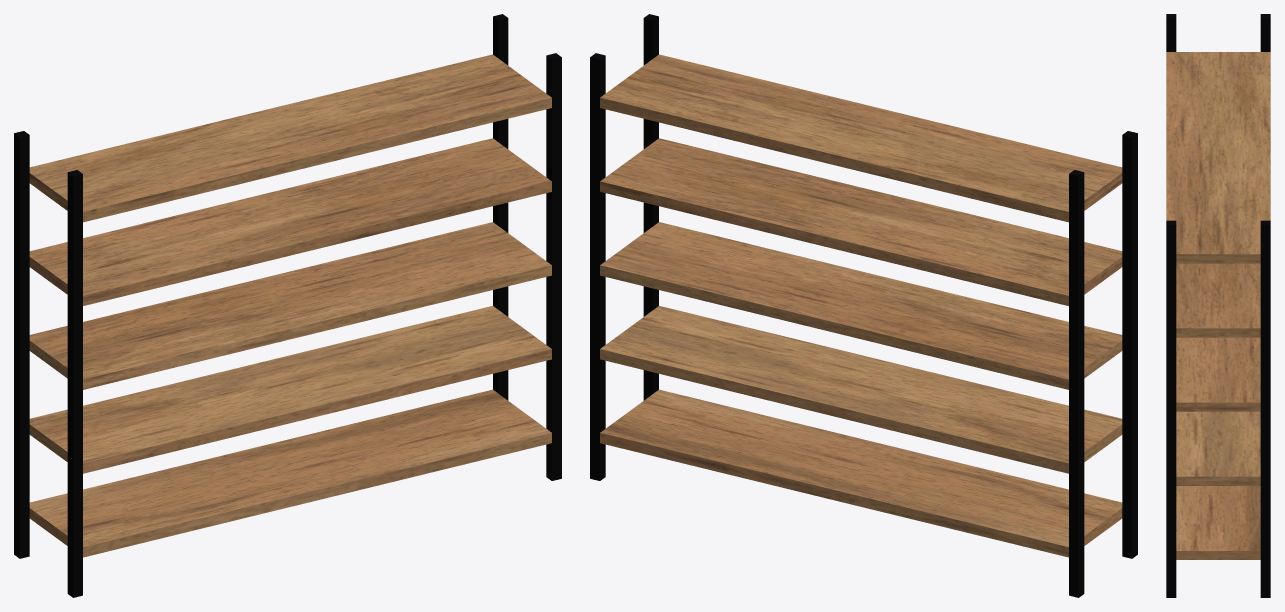
File: szafka.obj
3 renders of one model, left to right at view 1: azimuth 30°, elevation 25°; view 2: azimuth 150°, elevation 25°; view 3: azimuth 270°, elevation 25°, orthographic. The views are drawn at different scales.
Visible parts, largest first — view 1: Shelves1.001, Shelves1; view 2: Shelves1.001, Shelves1; view 3: Shelves1.001, Shelves1.
Boxes of the visible parts, x1,y1,x2,y2 form: Shelves1.001: [29, 54, 551, 557]; Shelves1: [14, 14, 561, 597]; Shelves1.001: [600, 54, 1122, 557]; Shelves1: [590, 14, 1137, 597]; Shelves1.001: [1166, 52, 1270, 559]; Shelves1: [1166, 14, 1270, 597].
Bounding box in the file's own units: 1.48 × 1.22 × 0.31.
